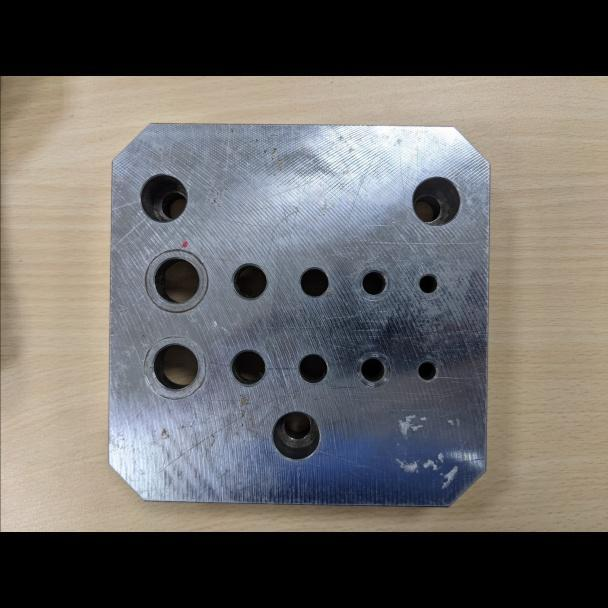hole: (135, 239, 212, 320), (136, 328, 210, 404), (405, 164, 468, 234), (132, 166, 195, 230), (265, 405, 326, 467), (224, 256, 273, 307), (224, 341, 270, 395), (347, 344, 396, 393), (293, 261, 336, 305), (292, 343, 332, 390), (353, 259, 394, 304), (408, 261, 447, 302), (408, 349, 445, 388)
